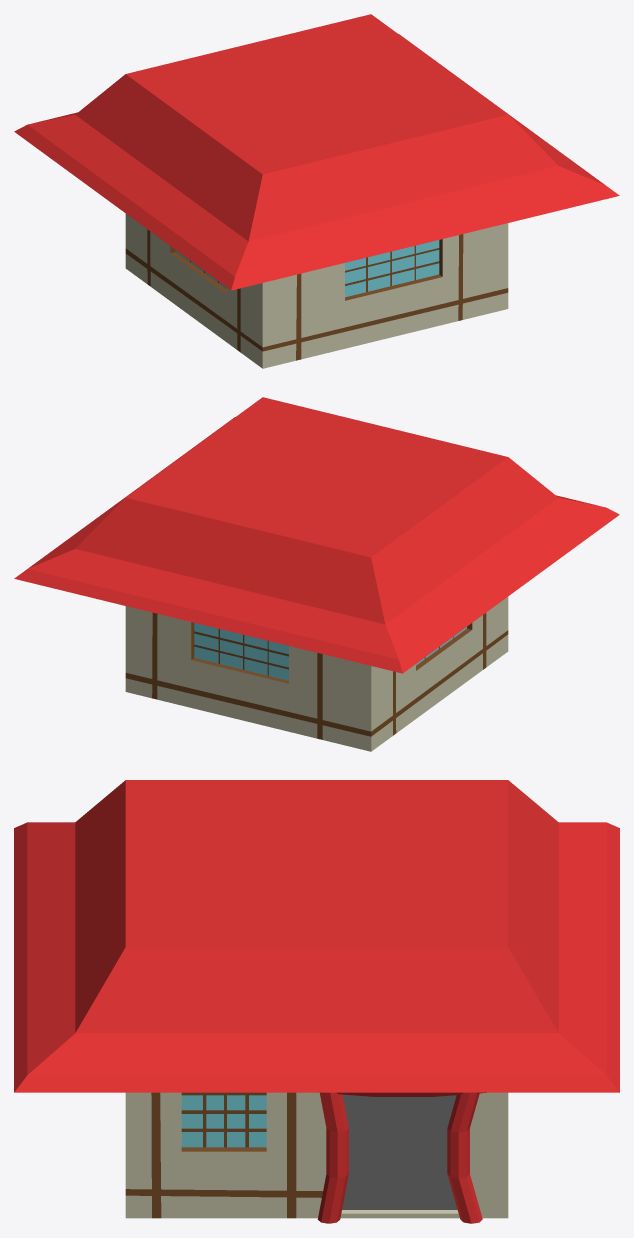
File: Chinese house 2.fbx
The picture shows the model from 3 angles, top to bottom: view 1: azimuth 30°, elevation 25°; view 2: azimuth 150°, elevation 25°; view 3: azimuth 270°, elevation 25°; orthographic projection. The views are drawn at different scales.
Visible parts, largest first — view 1: Cube; view 2: Cube; view 3: Cube, Cylinder, Cylinder.001.
Boxes of the visible parts, box(x1,y1,x2,y2) form: Cube: box(14, 14, 619, 368); Cube: box(14, 397, 619, 751); Cube: box(14, 780, 619, 1218); Cylinder: box(317, 1092, 348, 1223); Cylinder.001: box(447, 1092, 482, 1223).
Size of the model in its own units: 557 by 266 by 539.
